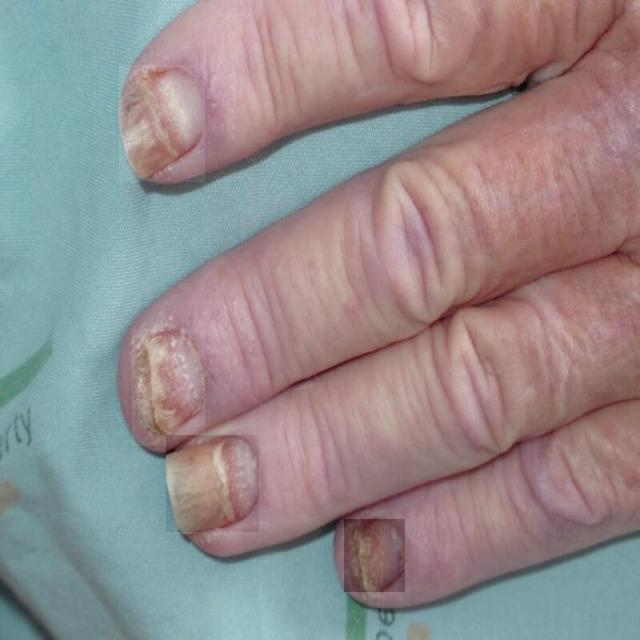diabetes: (119, 66, 205, 182), (166, 435, 259, 532), (132, 329, 205, 446), (344, 519, 405, 592)
